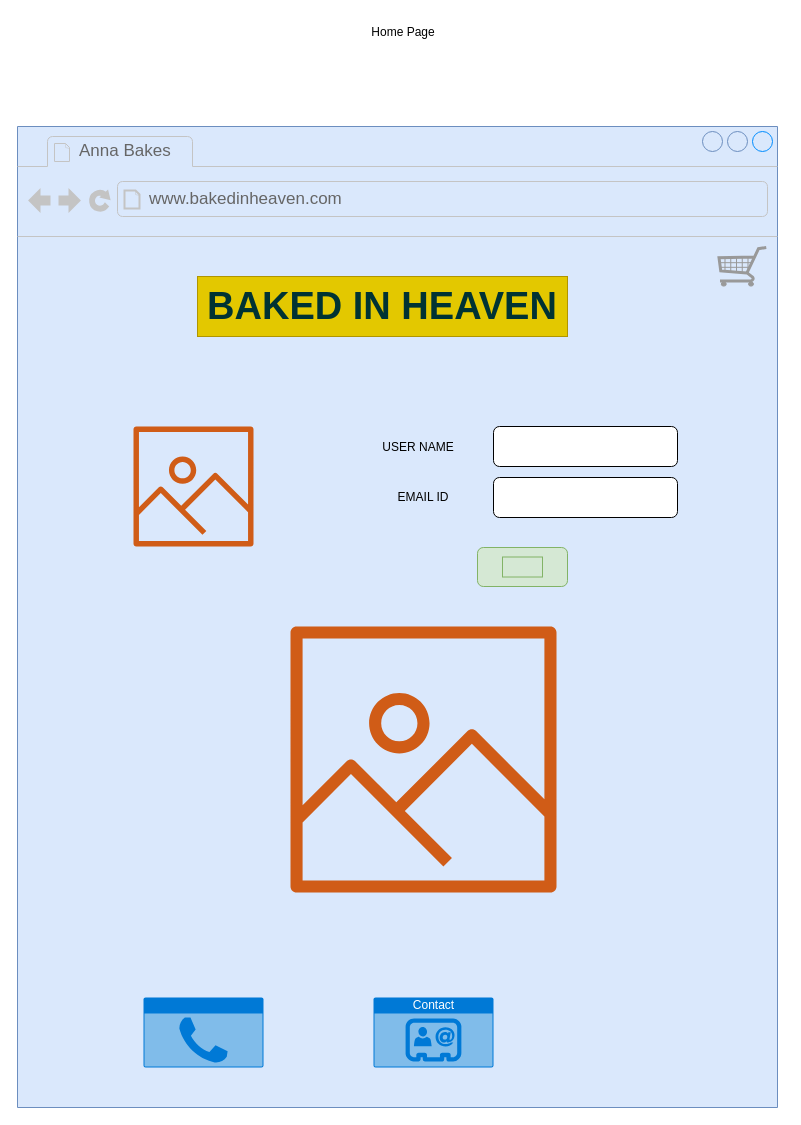
The diagram is 801 pixels wide and 1125 high, and some of its shapes have lost their labels. The shapes that lost their labels are listed below. From the top down, each one's box as (x1, y1, x2, y2) in pixels, then its label:
(502, 556, 542, 577): LOGIN
(143, 997, 263, 1067): Contact us
